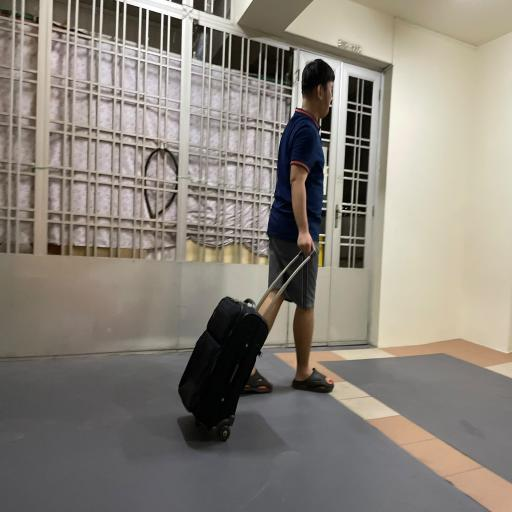person_right: (178, 38, 340, 452)
